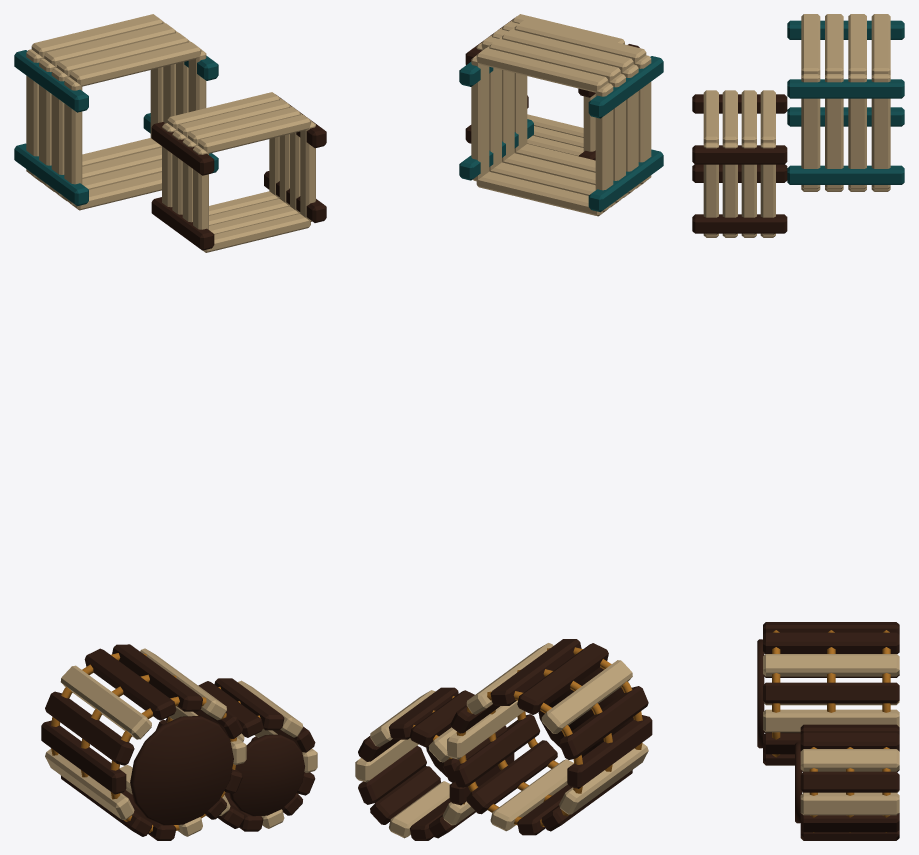
The model's file is SM_LT_TraderHub_Storage.obj.
3 renders of one model, left to right at view 1: azimuth 30°, elevation 25°; view 2: azimuth 150°, elevation 25°; view 3: azimuth 270°, elevation 25°, orthographic. The views are drawn at different scales.
Parts seen in each view (by area): view 1: SM_LT_TraderHub_Storage_EXPORT; view 2: SM_LT_TraderHub_Storage_EXPORT; view 3: SM_LT_TraderHub_Storage_EXPORT.
Part boxes in pixels (x1,y1,x2,y2): SM_LT_TraderHub_Storage_EXPORT: [14, 14, 326, 840]; SM_LT_TraderHub_Storage_EXPORT: [355, 14, 663, 840]; SM_LT_TraderHub_Storage_EXPORT: [692, 14, 904, 840].
Size of the model in its own units: 192 by 584 by 152.
